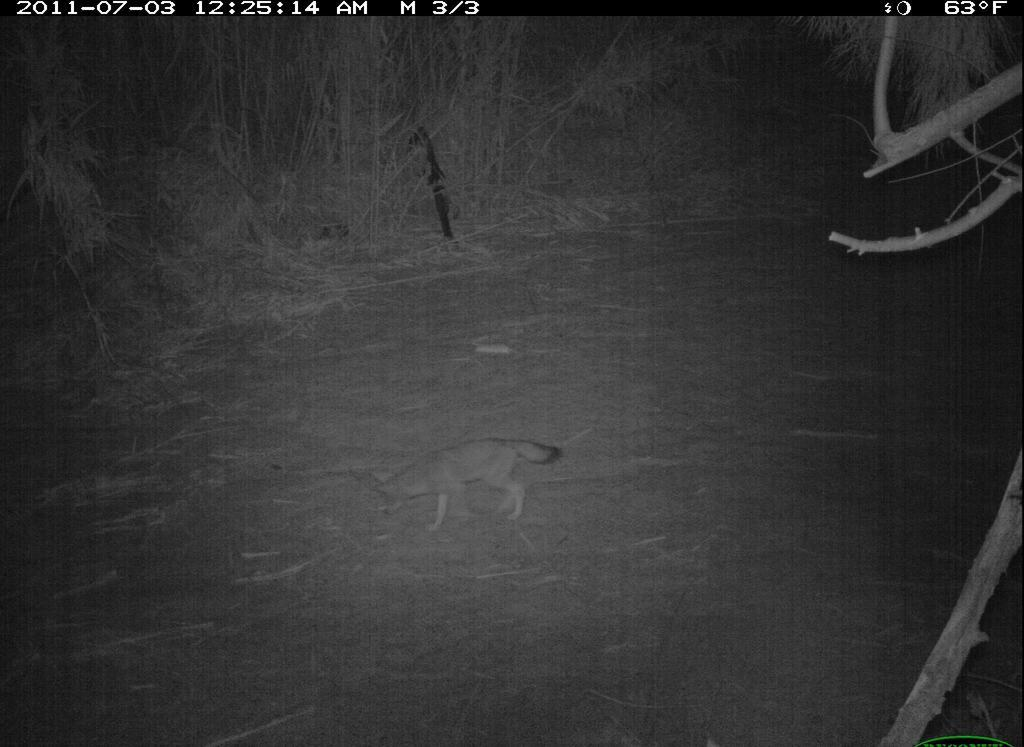coyote: (365, 431, 566, 533)
